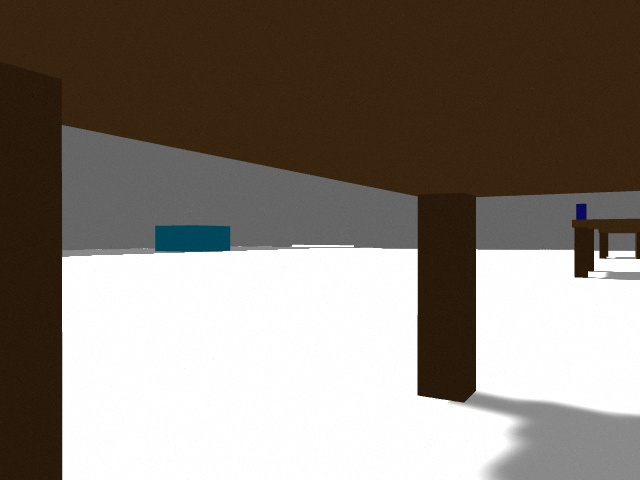blue_cube: (576, 204, 587, 219)
blue_drop_zone: (155, 225, 230, 252)
